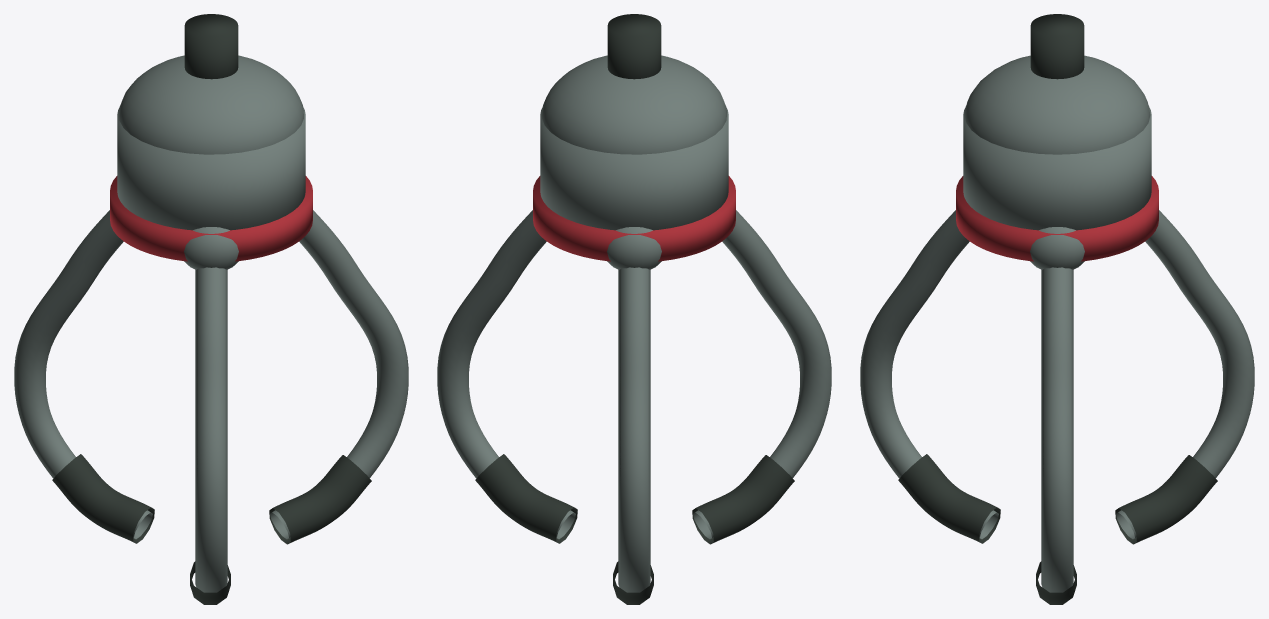
File: claw.glb
3 renders of one model, left to right at view 1: azimuth 30°, elevation 25°; view 2: azimuth 150°, elevation 25°; view 3: azimuth 270°, elevation 25°, orthographic.
Visible parts, largest first — view 1: Claw shoulder, Claw dome, Finger steel_2, Finger steel_0, Finger steel_1, Claw coral ring, Rubber grip_1, Rubber grip_0, Cable socket, Finger joint_2, Rubber grip_2; view 2: Claw shoulder, Claw dome, Finger steel_1, Finger steel_2, Finger steel_0, Claw coral ring, Rubber grip_0, Rubber grip_2, Cable socket, Finger joint_1, Rubber grip_1; view 3: Claw shoulder, Claw dome, Finger steel_0, Finger steel_1, Finger steel_2, Claw coral ring, Rubber grip_2, Rubber grip_1, Cable socket, Finger joint_0, Rubber grip_0.
Part boxes in pixels (bbox=[...]): Claw shoulder: bbox=[117, 106, 305, 230]; Claw dome: bbox=[119, 55, 303, 154]; Finger steel_2: bbox=[195, 267, 227, 592]; Finger steel_0: bbox=[270, 210, 408, 539]; Finger steel_1: bbox=[14, 210, 152, 539]; Claw coral ring: bbox=[110, 176, 312, 261]; Rubber grip_1: bbox=[52, 454, 154, 543]; Rubber grip_0: bbox=[269, 455, 371, 544]; Cable socket: bbox=[184, 14, 238, 79]; Finger joint_2: bbox=[184, 227, 238, 269]; Rubber grip_2: bbox=[190, 561, 230, 604]; Claw shoulder: bbox=[540, 106, 728, 230]; Claw dome: bbox=[542, 55, 726, 154]; Finger steel_1: bbox=[618, 267, 650, 592]; Finger steel_2: bbox=[693, 210, 831, 539]; Finger steel_0: bbox=[437, 210, 575, 539]; Claw coral ring: bbox=[533, 176, 735, 261]; Rubber grip_0: bbox=[475, 454, 577, 543]; Rubber grip_2: bbox=[692, 455, 794, 544]; Cable socket: bbox=[607, 14, 661, 79]; Finger joint_1: bbox=[607, 227, 661, 269]; Rubber grip_1: bbox=[613, 561, 653, 604]; Claw shoulder: bbox=[963, 106, 1151, 230]; Claw dome: bbox=[964, 55, 1150, 154]; Finger steel_0: bbox=[1041, 267, 1073, 592]; Finger steel_1: bbox=[1116, 210, 1254, 539]; Finger steel_2: bbox=[860, 210, 998, 539]; Claw coral ring: bbox=[956, 176, 1158, 261]; Rubber grip_2: bbox=[898, 454, 1000, 543]; Rubber grip_1: bbox=[1115, 455, 1217, 544]; Cable socket: bbox=[1030, 14, 1084, 79]; Finger joint_0: bbox=[1030, 227, 1084, 269]; Rubber grip_0: bbox=[1036, 561, 1076, 604].
Size of the model in its own units: 0.6604 by 1.13 by 0.7536.
